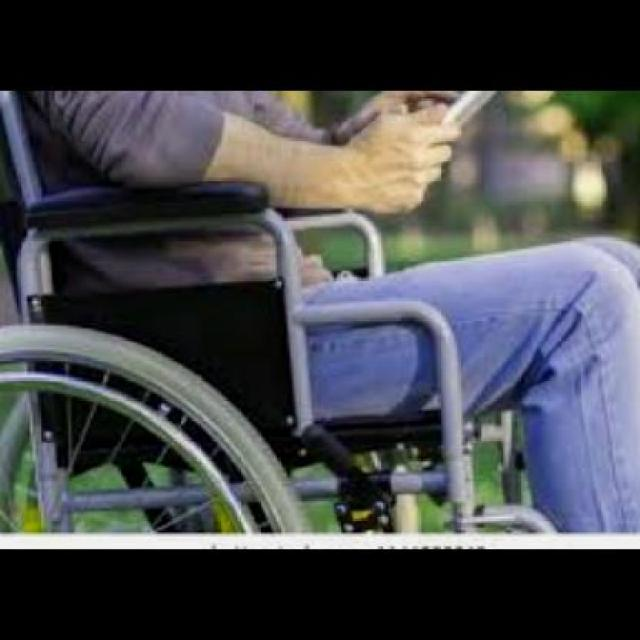wheelchairs: (1, 100, 584, 536)
